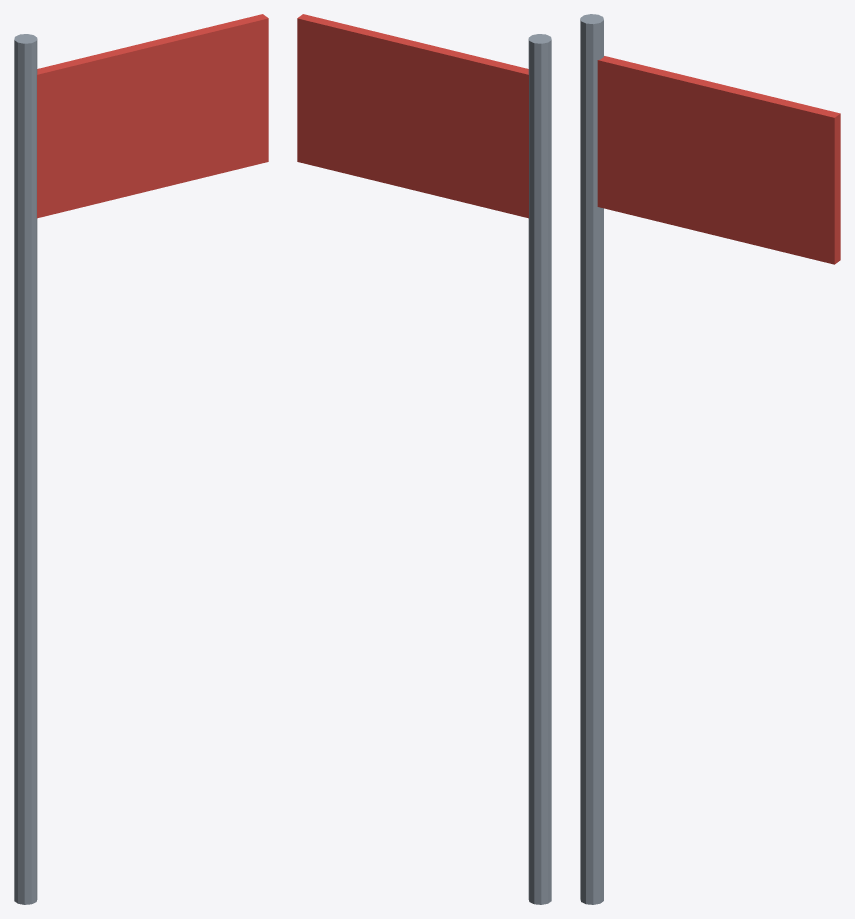
File: Longboarding_Flag.fbx
3 renders of one model, left to right at view 1: azimuth 30°, elevation 25°; view 2: azimuth 150°, elevation 25°; view 3: azimuth 330°, elevation 25°, orthographic. The views are drawn at different scales.
Visible parts, largest first — view 1: Flag; view 2: Flag; view 3: Flag.
Boxes of the visible parts, x1,y1,x2,y2 form: Flag: [14, 14, 268, 904]; Flag: [297, 14, 551, 904]; Flag: [580, 14, 840, 904].
Bounding box in the file's own units: 0.7285 × 2.4 × 0.06.
